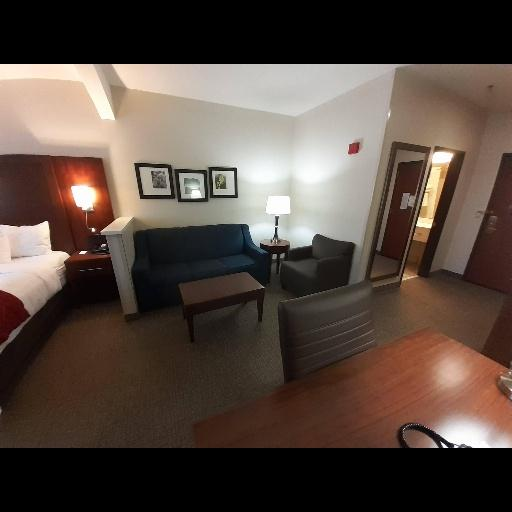chair: (278, 285, 382, 364)
clean_bed: (0, 152, 76, 389)
lamp: (65, 177, 109, 231), (262, 196, 297, 245)
organised_pillow: (2, 214, 57, 264)
organized table: (193, 320, 511, 451), (180, 272, 269, 340)
